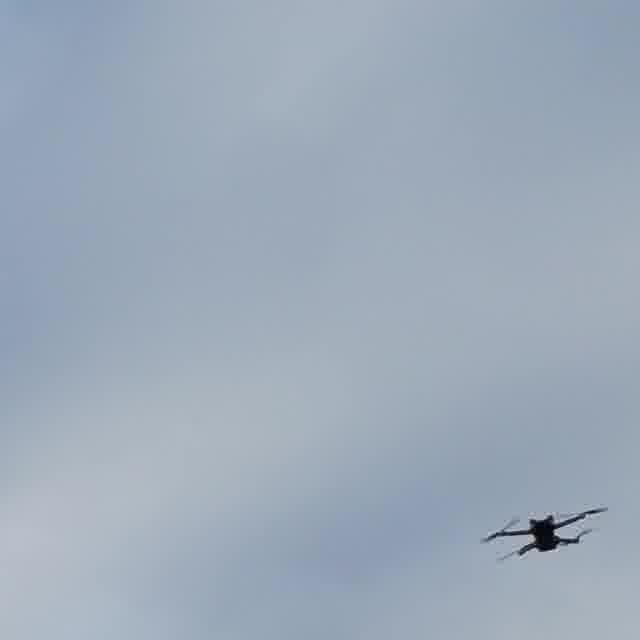Drohne: (483, 508, 606, 559)
